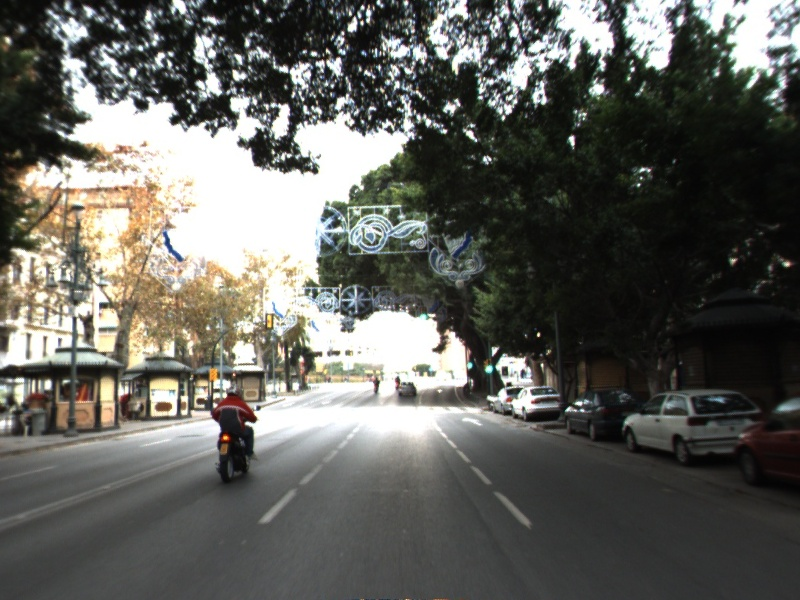STRAIGHT: (459, 415, 485, 428)
